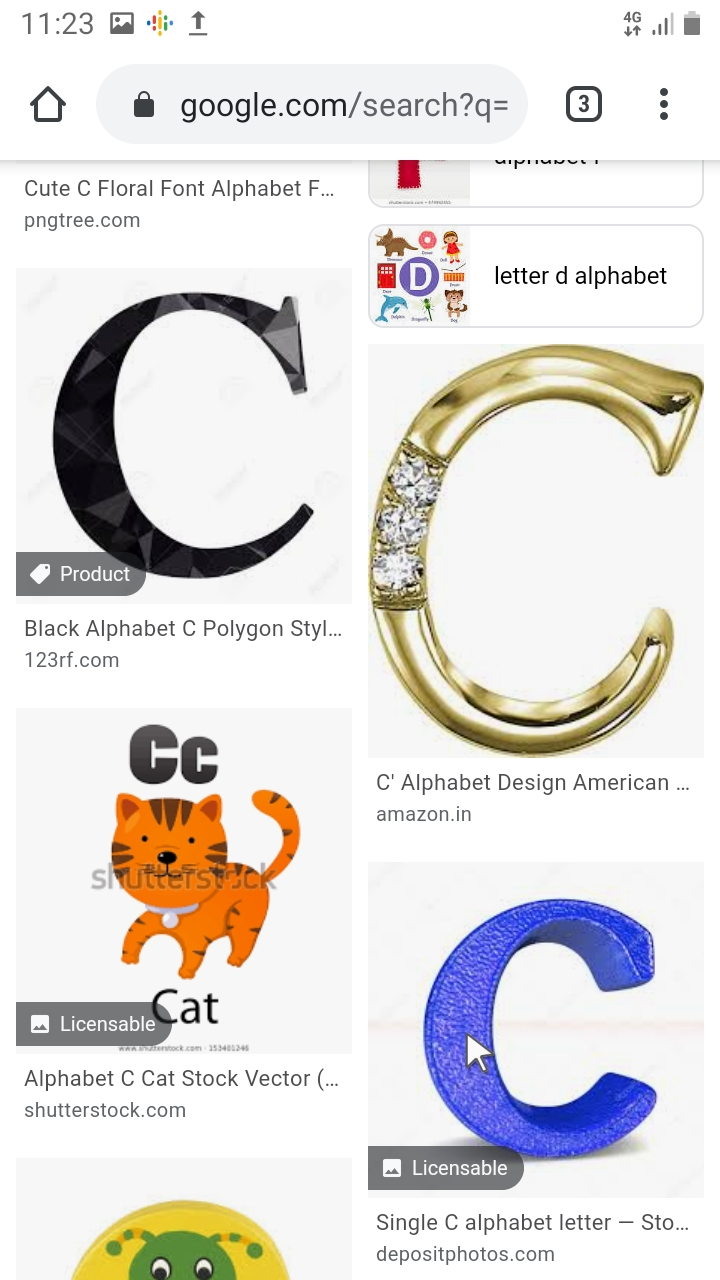zone C: (362, 339, 704, 757), (43, 282, 323, 578), (417, 890, 696, 1163)
